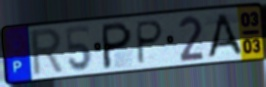2: (176, 13, 206, 64)
5: (64, 23, 94, 74)
A: (205, 12, 244, 60)
P: (101, 20, 134, 71), (136, 19, 165, 67)
R: (29, 26, 66, 79)
